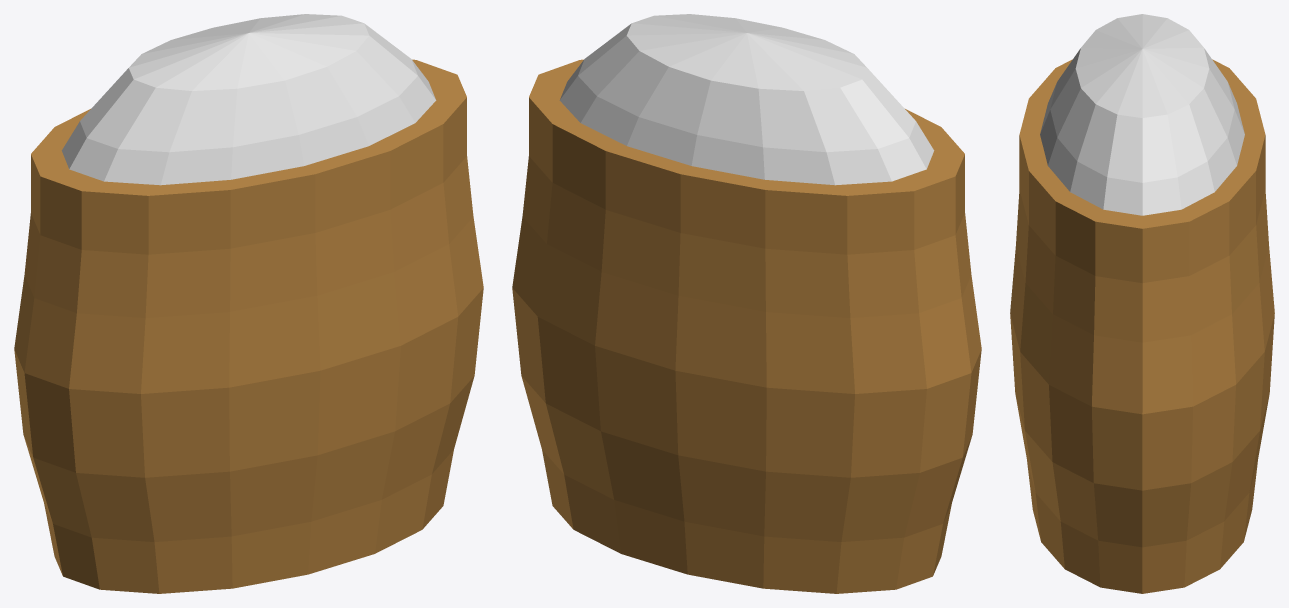
The model's file is flour.fbx.
The picture shows the model from 3 angles, left to right: view 1: azimuth 30°, elevation 25°; view 2: azimuth 150°, elevation 25°; view 3: azimuth 270°, elevation 25°; orthographic projection. The views are drawn at different scales.
Visible parts, largest first — view 1: Bag, flour; view 2: Bag, flour; view 3: Bag, flour.
Part boxes in pixels (left/top/right/bottom): Bag: left=14, top=59, right=483, bottom=593; flour: left=61, top=14, right=436, bottom=185; Bag: left=512, top=59, right=981, bottom=593; flour: left=559, top=14, right=934, bottom=185; Bag: left=1010, top=59, right=1274, bottom=593; flour: left=1040, top=14, right=1244, bottom=215.
Bounding box in the file's own units: 1.26 × 1.34 × 0.6963.
